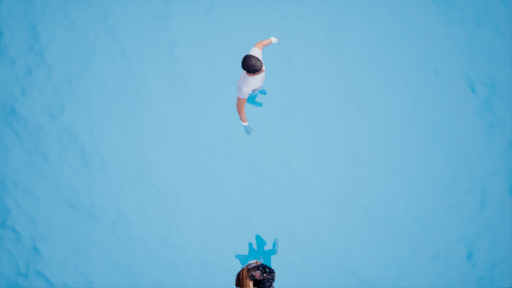person: (225, 37, 283, 129), (236, 237, 281, 288)
